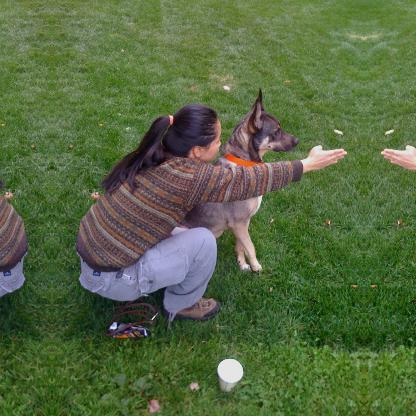Dog: (175, 88, 297, 270)
